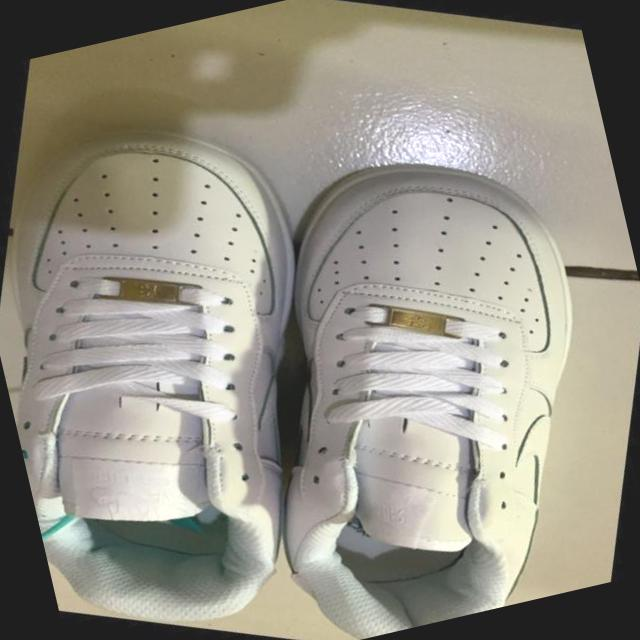nike_fake_airforce: (148, 86, 640, 640), (0, 47, 429, 640)
